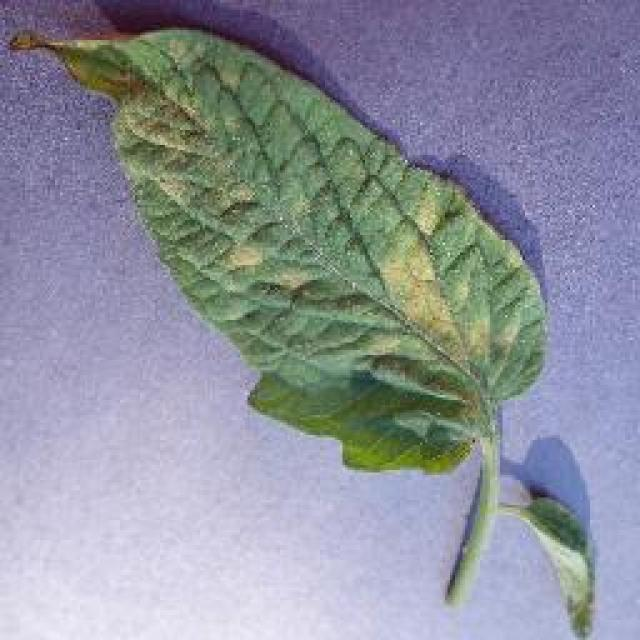Tomato mold leaf: (13, 26, 550, 478)
